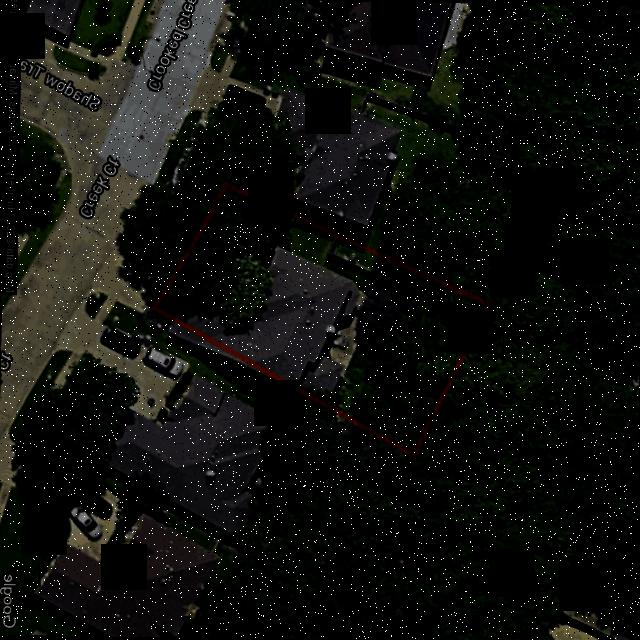House: (173, 247, 362, 403)
